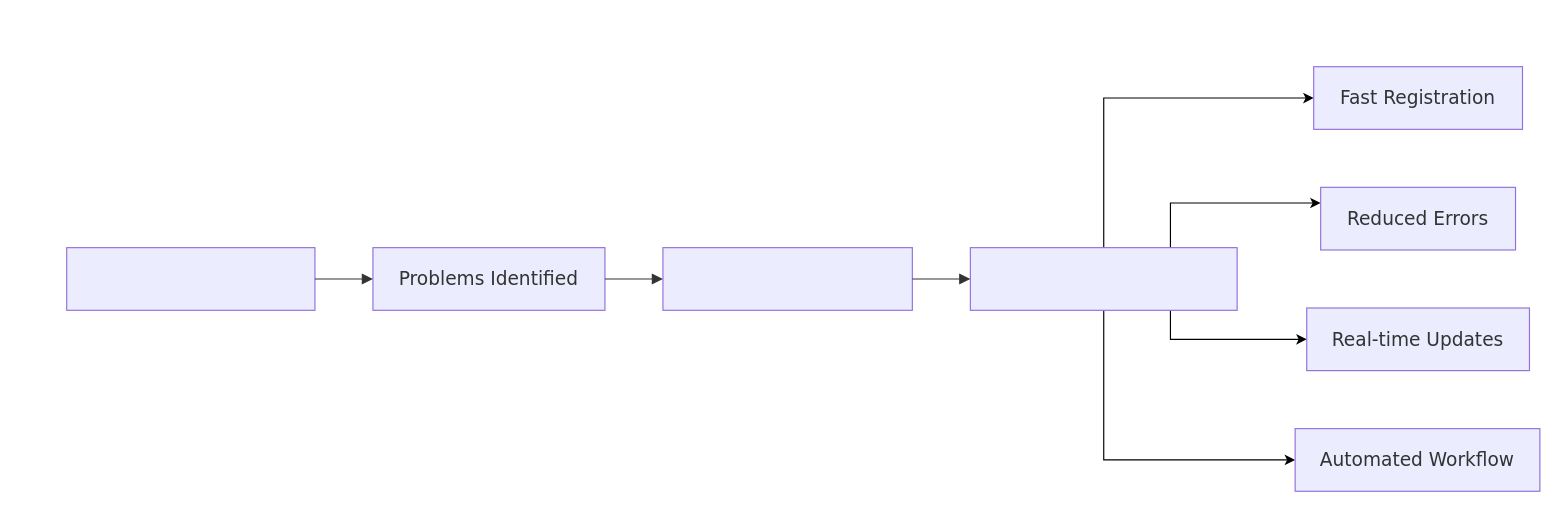
Some shapes in this 1560 by 512 pixel diagram are drawn without their labels. The box of each missing label's shape, as (x1, y1, x2, y2) in pixels:
AS-IS: Manual Process: (66, 246, 315, 310)
Improvements Achieved: (969, 246, 1237, 310)
TO-BE: Digital System: (662, 246, 912, 310)
